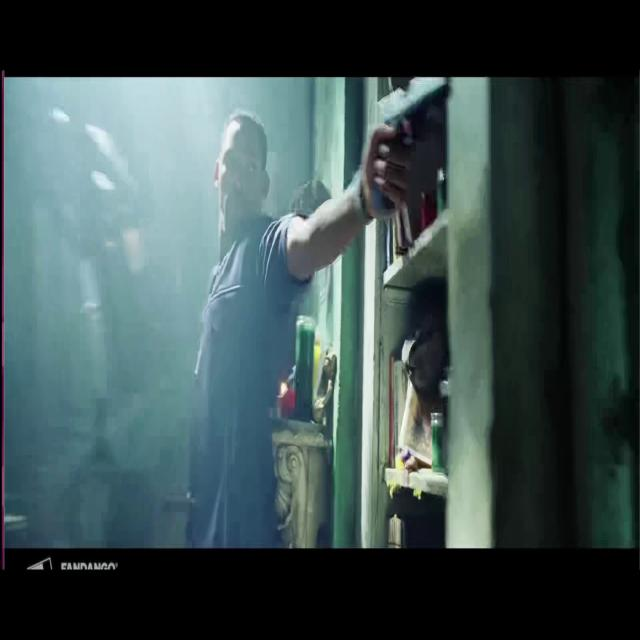weapons: (362, 79, 467, 219)
